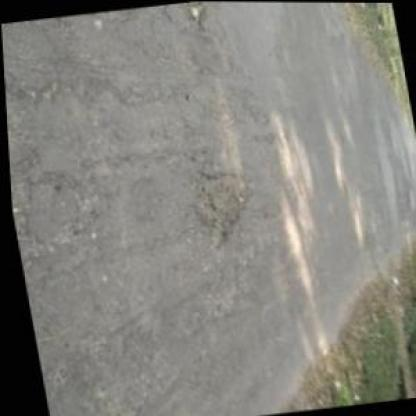pothole: (182, 162, 262, 255), (179, 2, 212, 38)
